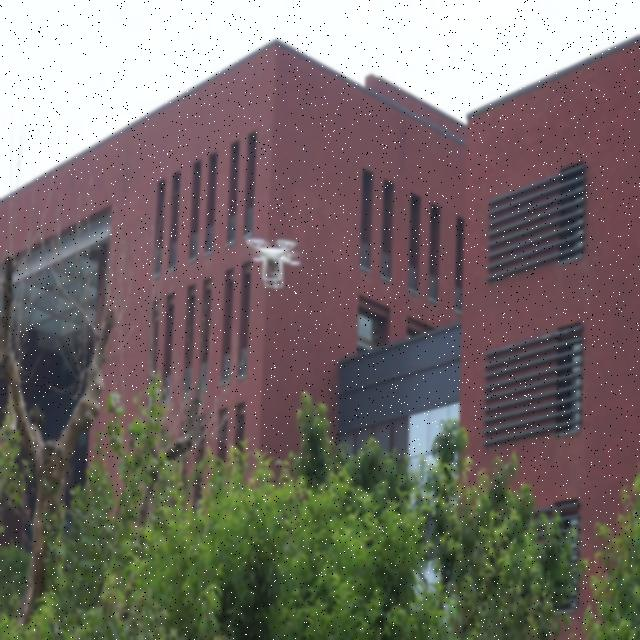UAV: (246, 238, 300, 290)
